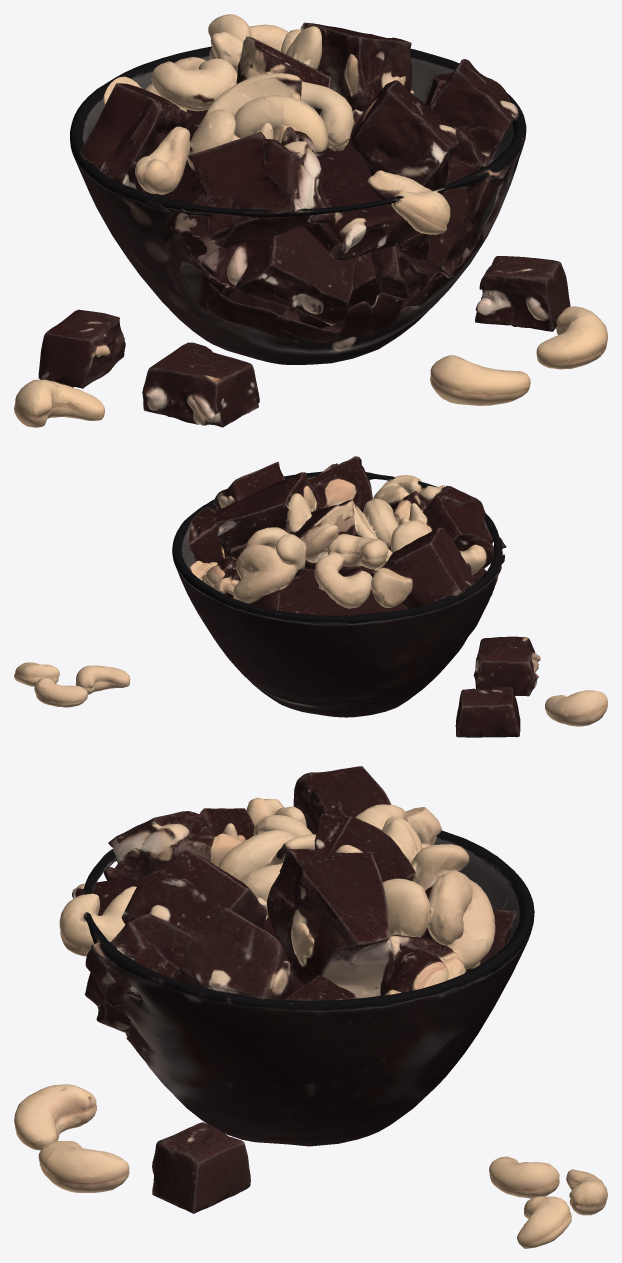
File: cashew_nut_chocolate.glb
The picture shows the model from 3 angles, top to bottom: view 1: azimuth 30°, elevation 25°; view 2: azimuth 150°, elevation 25°; view 3: azimuth 270°, elevation 25°; orthographic projection. The views are drawn at different scales.
Visible parts, largest first — view 1: Mesh_0.001; view 2: Mesh_0.001; view 3: Mesh_0.001.
Part boxes in pixels (box(x1,y1,x2,y2)): Mesh_0.001: box(14, 14, 607, 427); Mesh_0.001: box(14, 456, 607, 737); Mesh_0.001: box(14, 766, 607, 1248).
Size of the model in its own units: 1.9 by 0.7814 by 1.48.
1 material, 1 textured.
